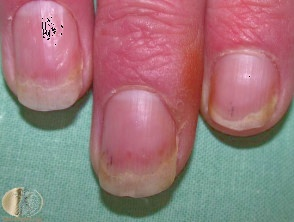Nail_psoriasis: (80, 7, 215, 209), (1, 0, 96, 117), (201, 33, 292, 142)
